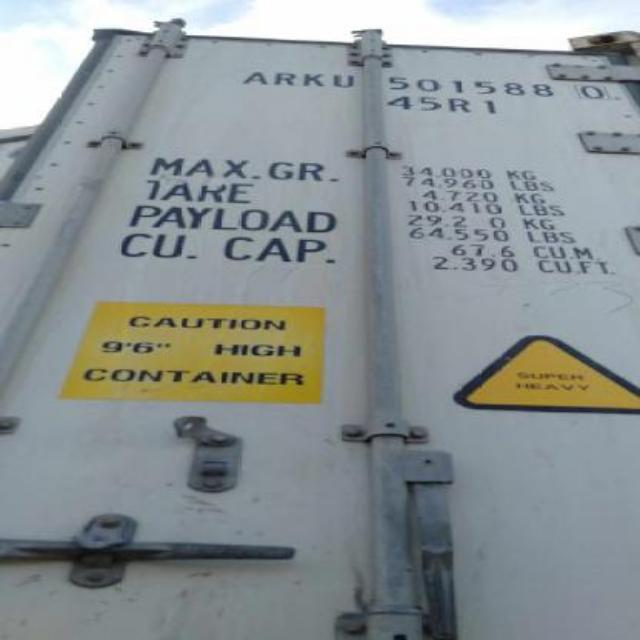0: (574, 83, 608, 103), (414, 75, 444, 95)
1: (446, 78, 472, 94)
5: (472, 80, 500, 96), (388, 75, 412, 91)
8: (500, 82, 528, 100), (532, 81, 556, 101)
A: (244, 72, 270, 84)
K: (302, 71, 326, 91)
R: (272, 70, 300, 88)
U: (328, 74, 362, 92)
